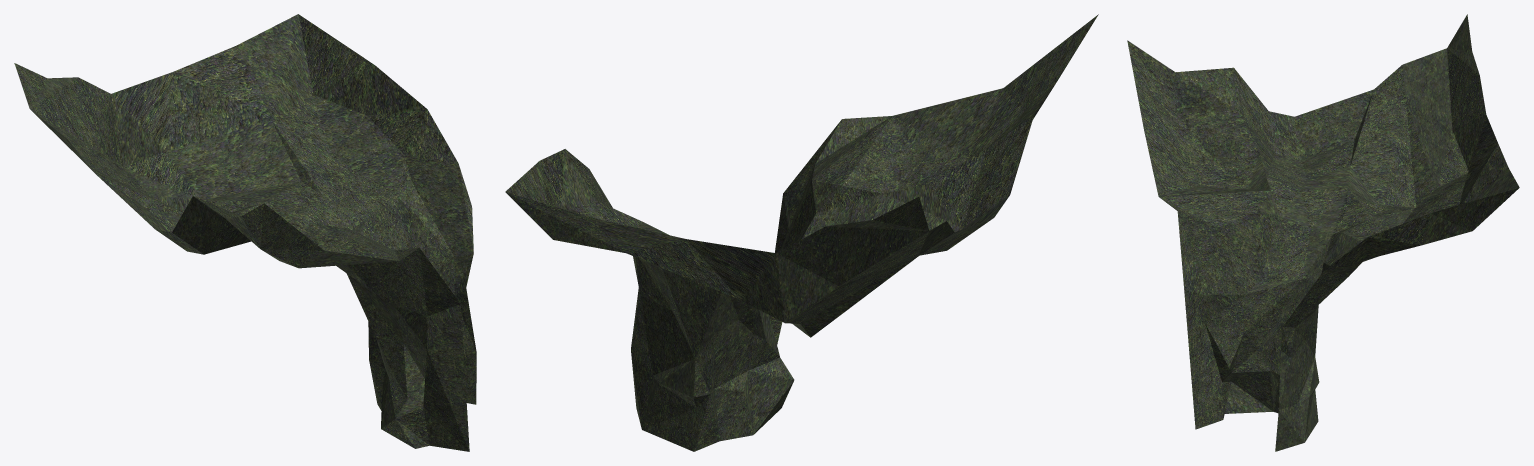
Rendered from cliff_coner_01_lod_01.fbx.
The picture shows the model from 3 angles, left to right: view 1: azimuth 30°, elevation 25°; view 2: azimuth 150°, elevation 25°; view 3: azimuth 270°, elevation 25°; orthographic projection. The views are drawn at different scales.
Parts seen in each view (by area): view 1: cliff_coner_01; view 2: cliff_coner_01; view 3: cliff_coner_01.
Boxes of the visible parts, x1,y1,x2,y2 form: cliff_coner_01: (14, 14, 476, 451); cliff_coner_01: (505, 14, 1098, 451); cliff_coner_01: (1127, 14, 1519, 451).
Bounding box in the file's own units: 99.55 × 90.8 × 110.
